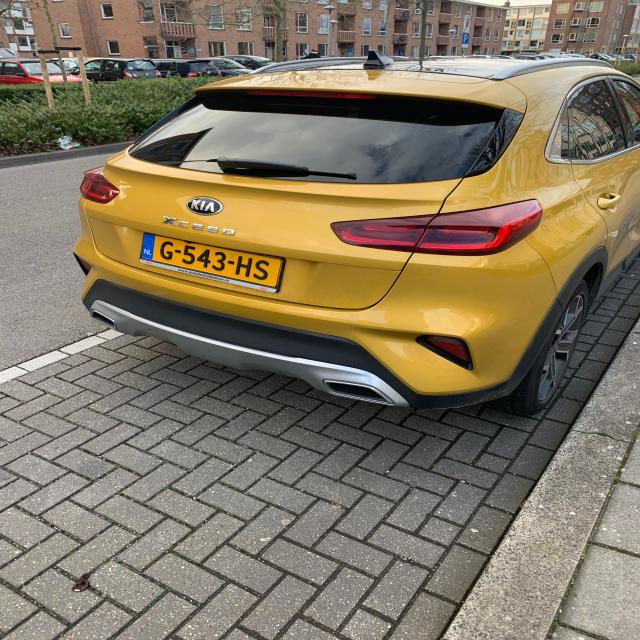plate: (138, 232, 286, 294)
